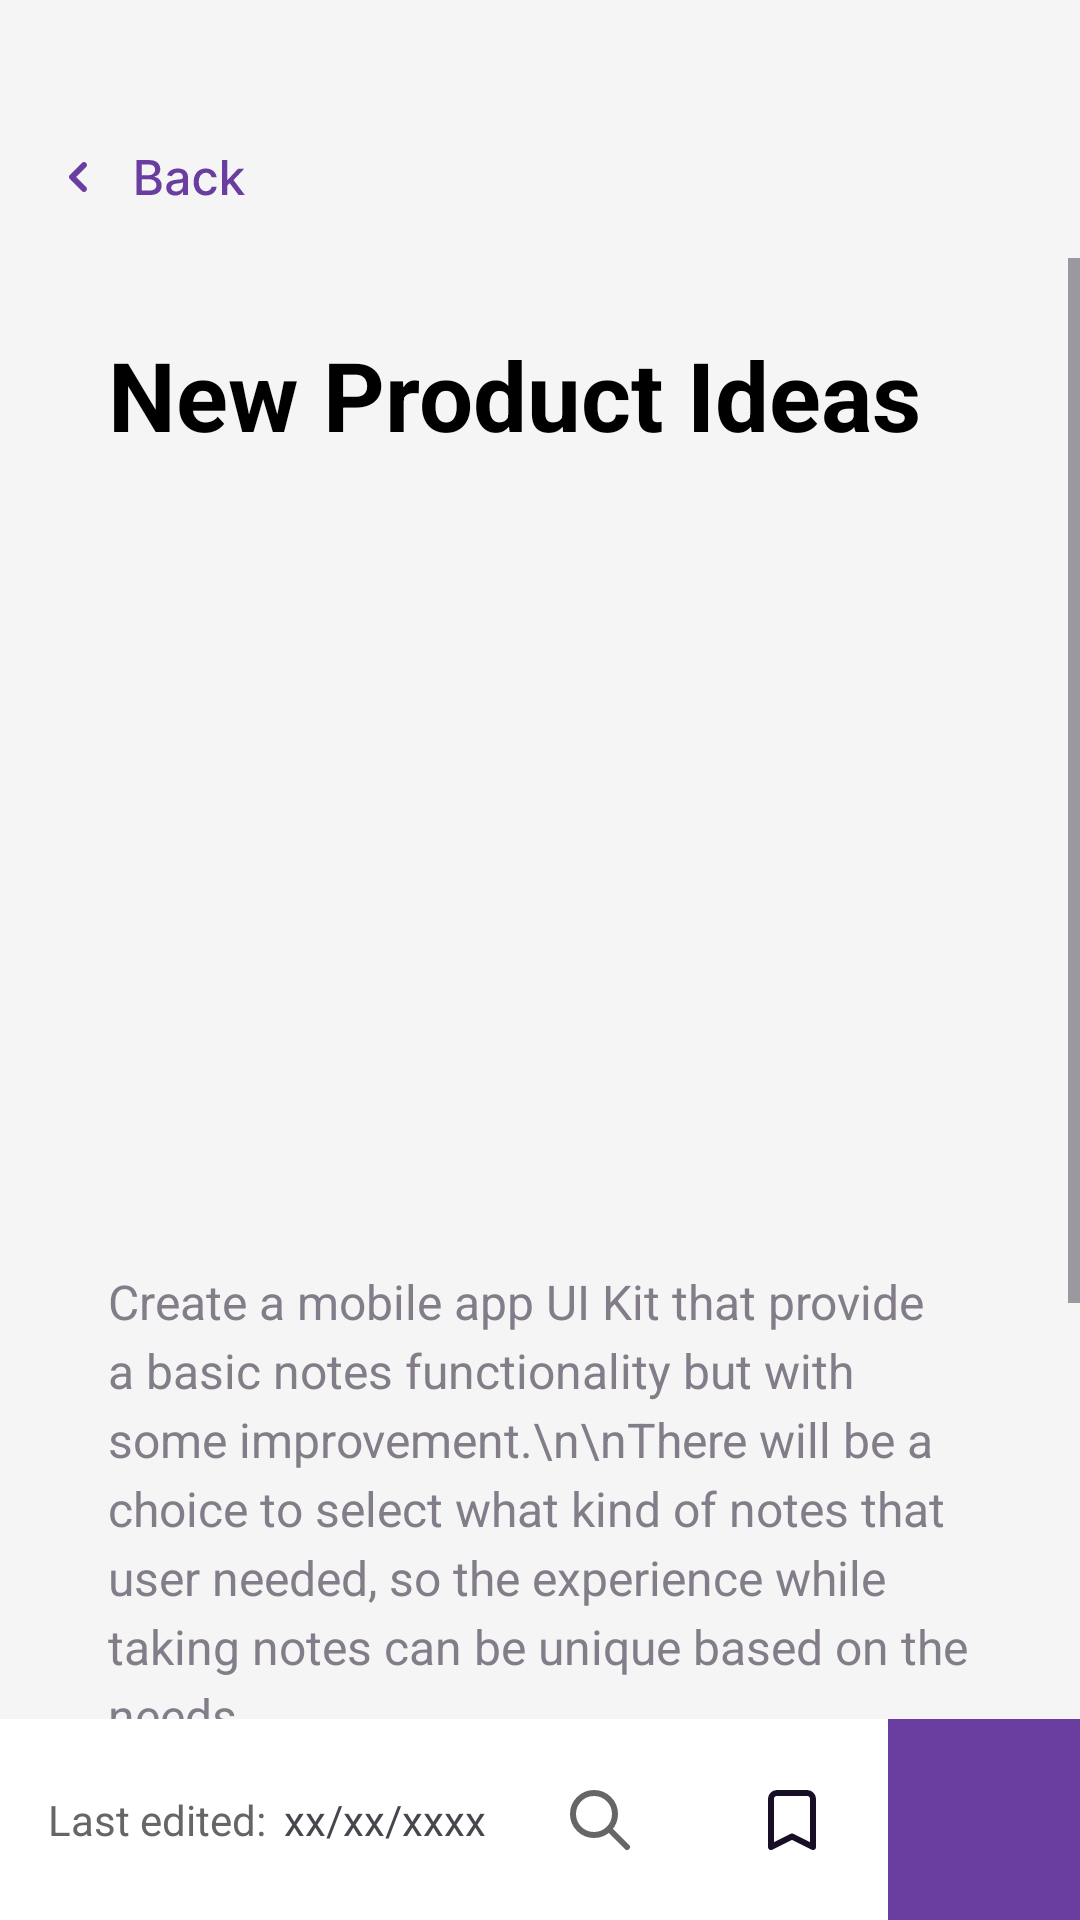

Where to tap for icons on this 1080w x 1920h app screen, as (x=x, y=y):
Bookmark: (x=792, y=1820)
Search: (x=600, y=1820)
